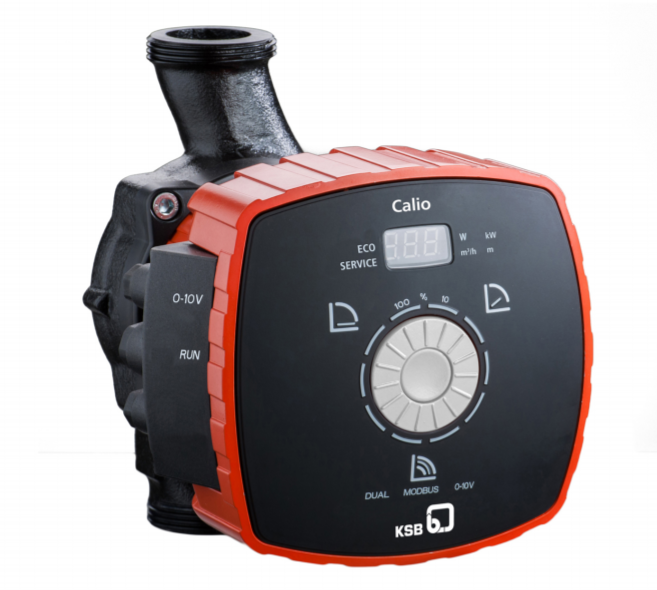Calio S / Calio BMS: (35, 9, 624, 567)
